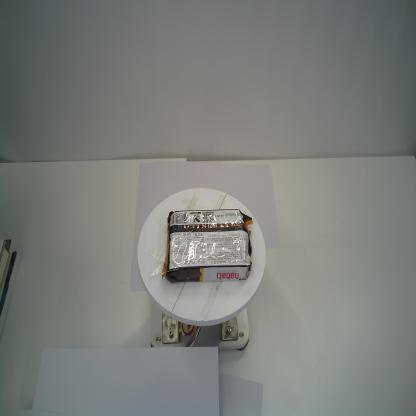Dessert: (159, 207, 254, 284)
